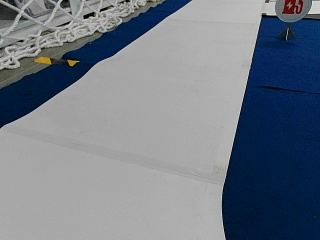battery: (274, 0, 312, 22)
